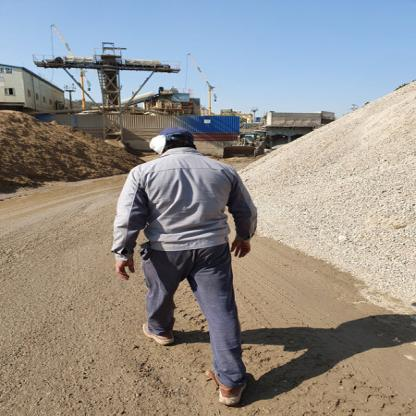person: (107, 120, 274, 410)
